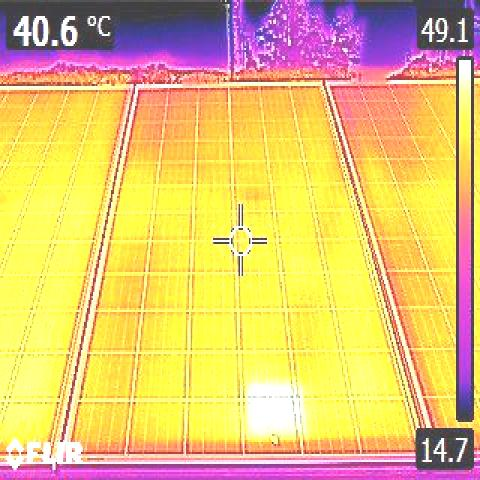fault: (246, 395, 298, 444)
